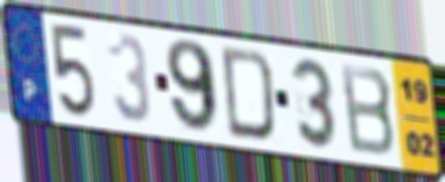3: (288, 55, 340, 153), (104, 31, 153, 127)
5: (48, 20, 98, 122)
9: (165, 37, 223, 139)
B: (337, 60, 399, 159)
D: (219, 44, 278, 145)
